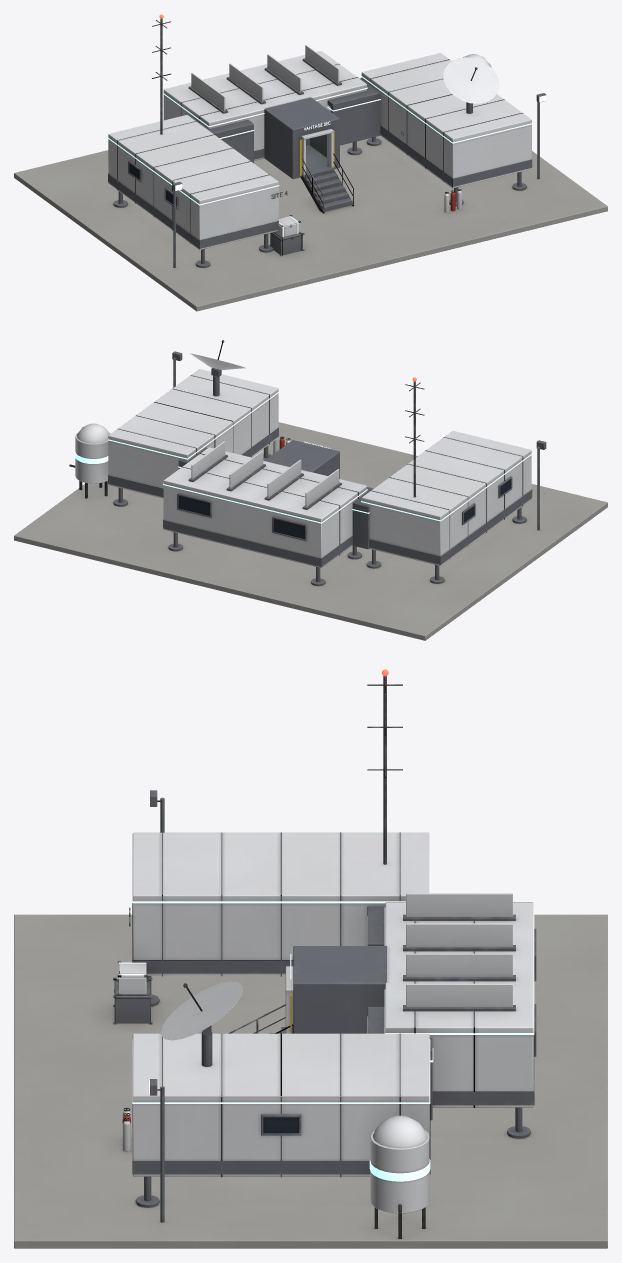
Rendered from outpost.glb.
3 views of the same model, one above another, from view 1: azimuth 30°, elevation 25°; view 2: azimuth 150°, elevation 25°; view 3: azimuth 270°, elevation 25° (orthographic). The views are drawn at different scales.
Visible parts, largest first — view 1: hull; view 2: hull, glass; view 3: hull.
Boxes of the visible parts, x1,y1,x2,y2 form: hull: (14,18,607,311); hull: (14,340,607,640); glass: (178,479,510,539); hull: (14,676,607,1248).
Size of the model in its own units: 26.5 by 11.72 by 20.
19 materials, 14 textured.
